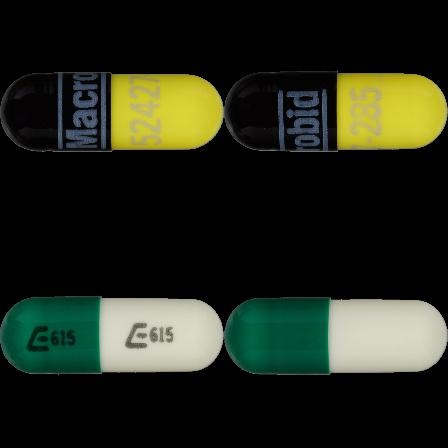68788-0518: (0, 0, 224, 224)
